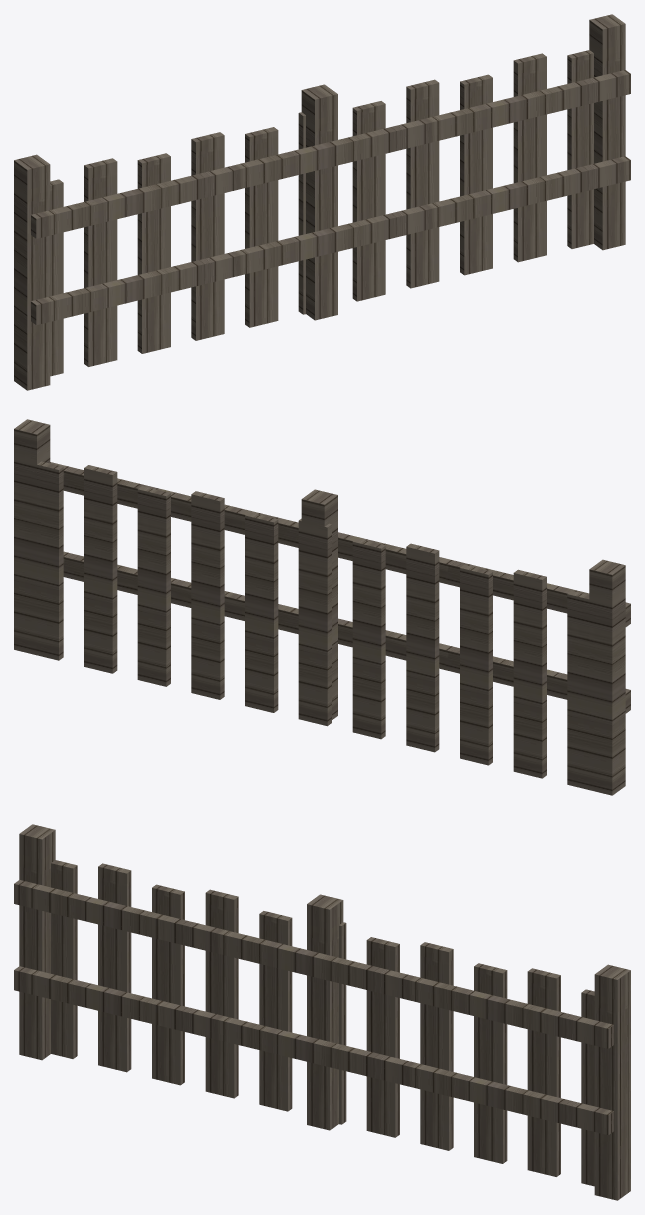
The model's file is wood_fence_01.glb.
3 views of the same model, one above another, from view 1: azimuth 30°, elevation 25°; view 2: azimuth 150°, elevation 25°; view 3: azimuth 330°, elevation 25° (orthographic).
Visible parts, largest first — view 1: wood_fence_01; view 2: wood_fence_01; view 3: wood_fence_01.
Part boxes in pixels (x1=…): wood_fence_01: x1=14, y1=14, x2=630, y2=390; wood_fence_01: x1=14, y1=419, x2=630, y2=795; wood_fence_01: x1=14, y1=824, x2=630, y2=1200.
Bounding box in the file's own units: 3.12 × 1.1 × 0.1851.
Materials: 1 (1 with a texture image).
